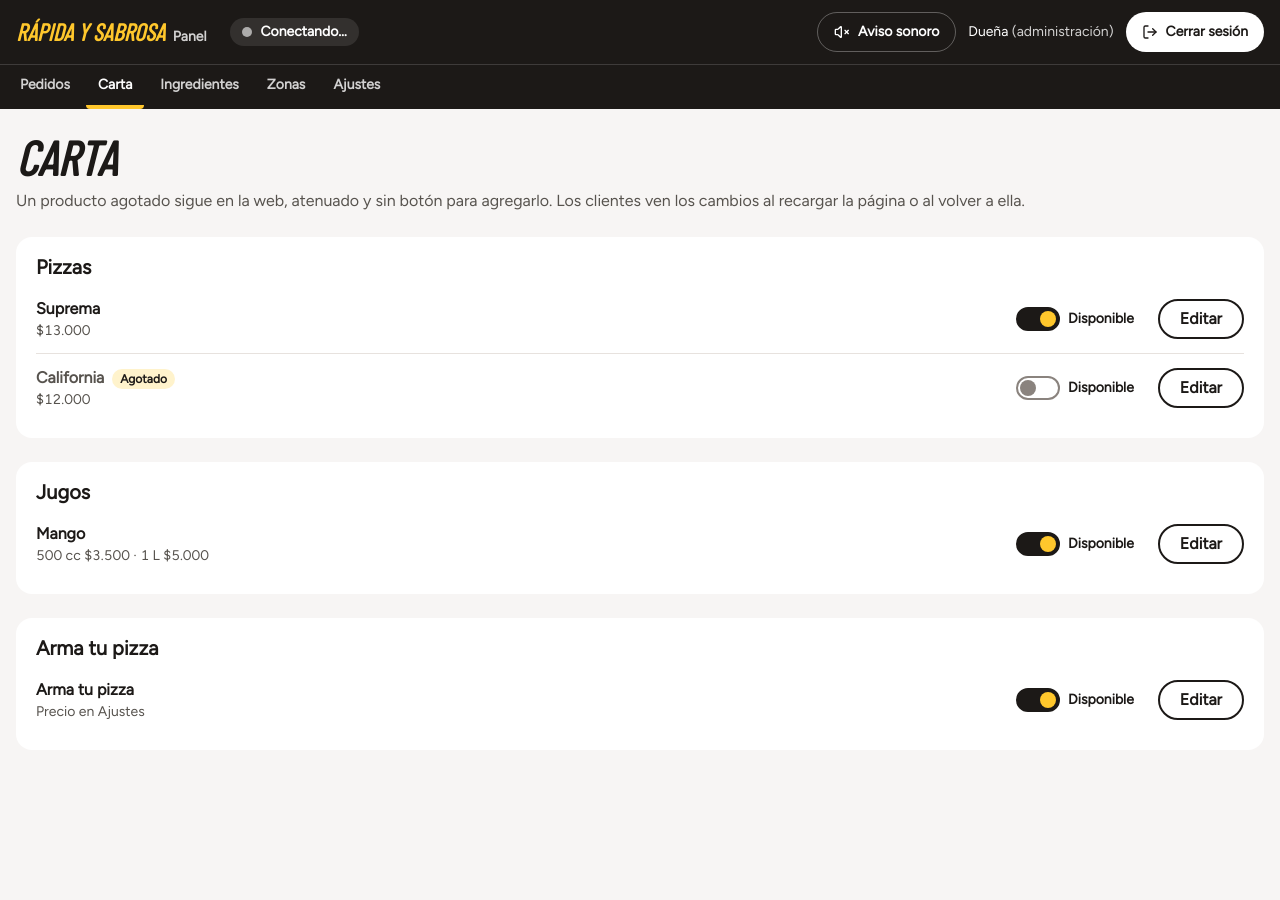
Scenario: /carta › cambia nombre y descripción; una descripción vacía se guarda como "sin descripción"
Check: the heading "Carta" is shown, box [16,128,116,186]
Click the button named "Editar Suprema": click(1201, 319) [1158,299,1244,339]
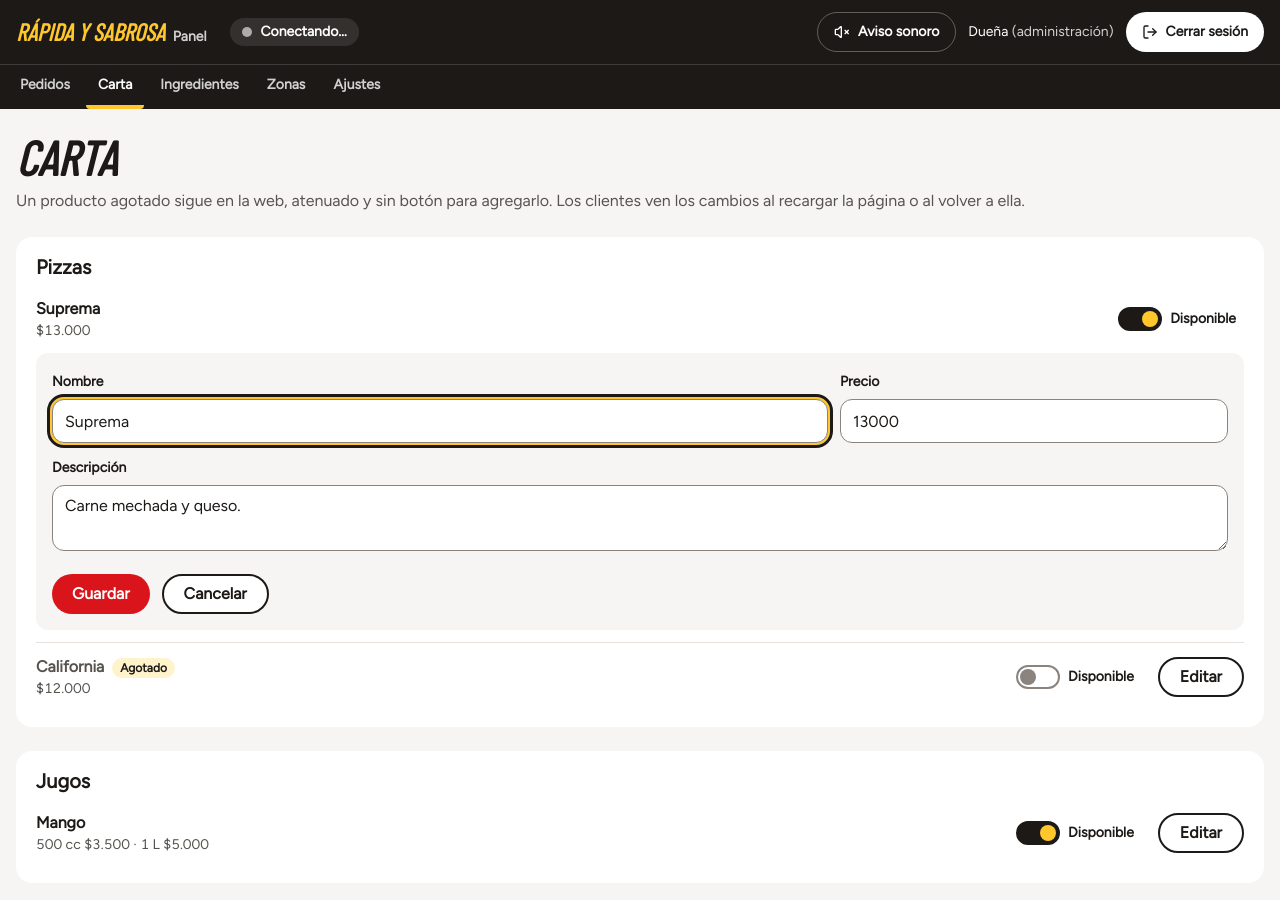
Replace the text in the field labelled "Nombre" with "Suprema XL": (440, 421) [52,399,828,443]
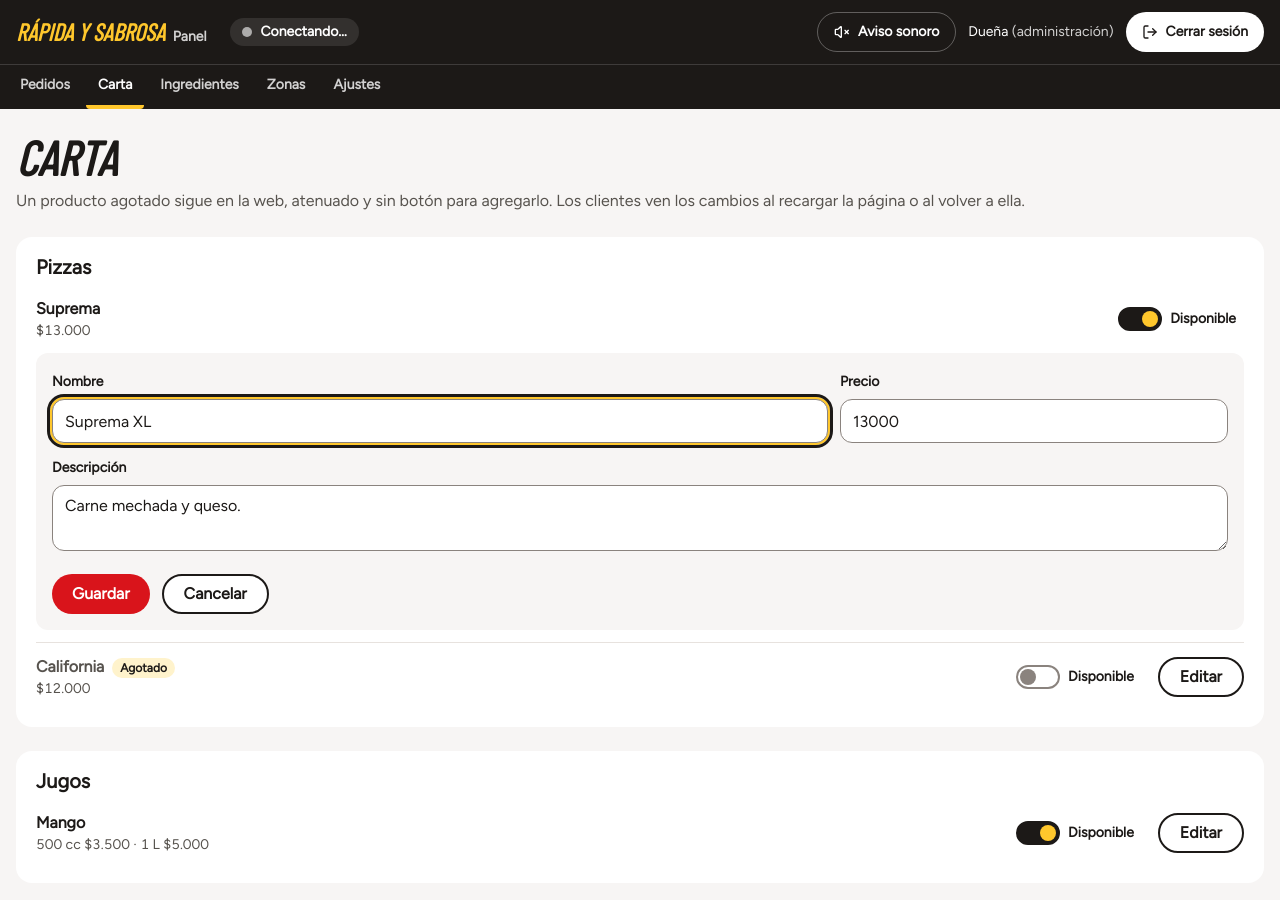
Clear the text box labelled "Descripción": (640, 518) [52,485,1228,551]
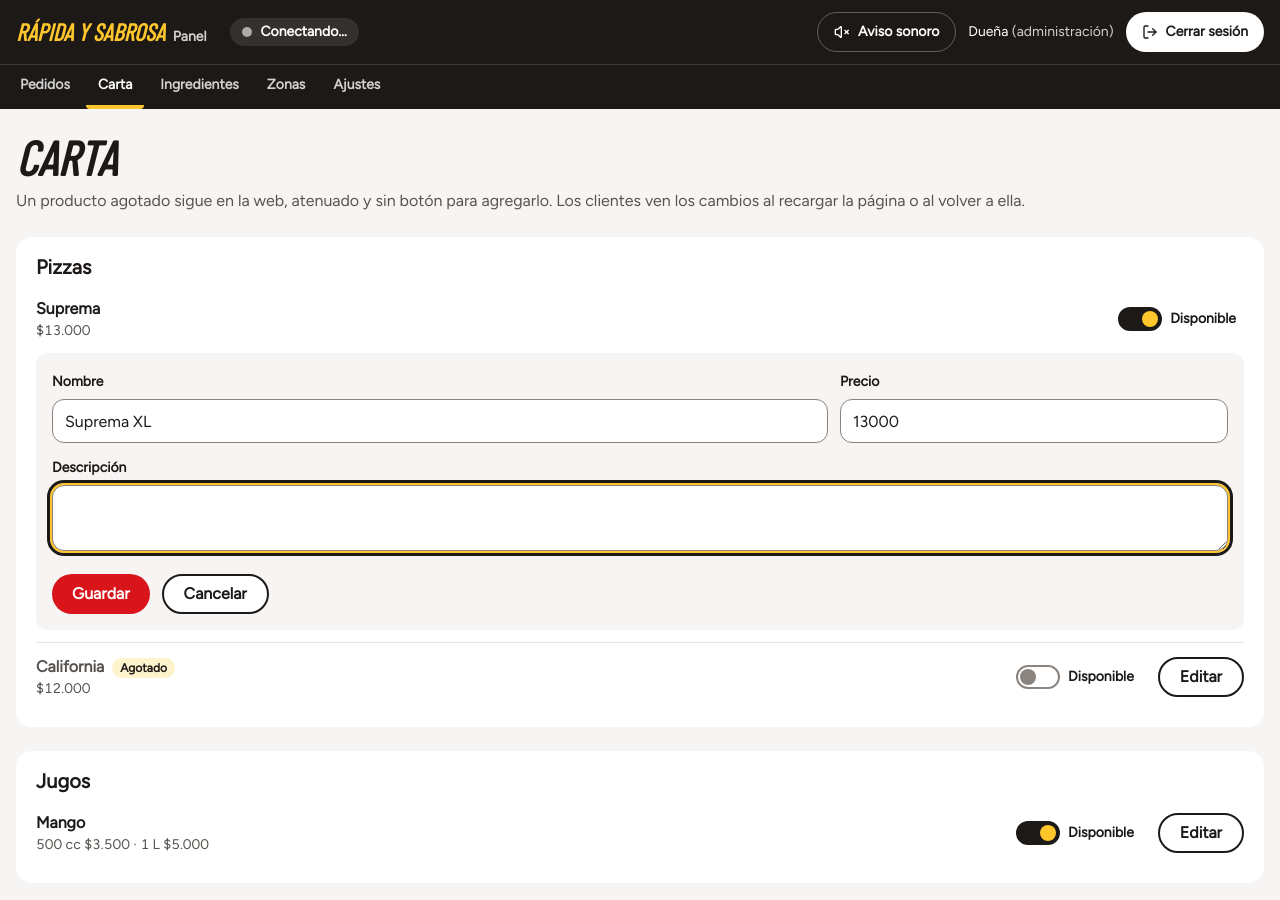
Click the button "Guardar": click(101, 594) [52,574,150,614]
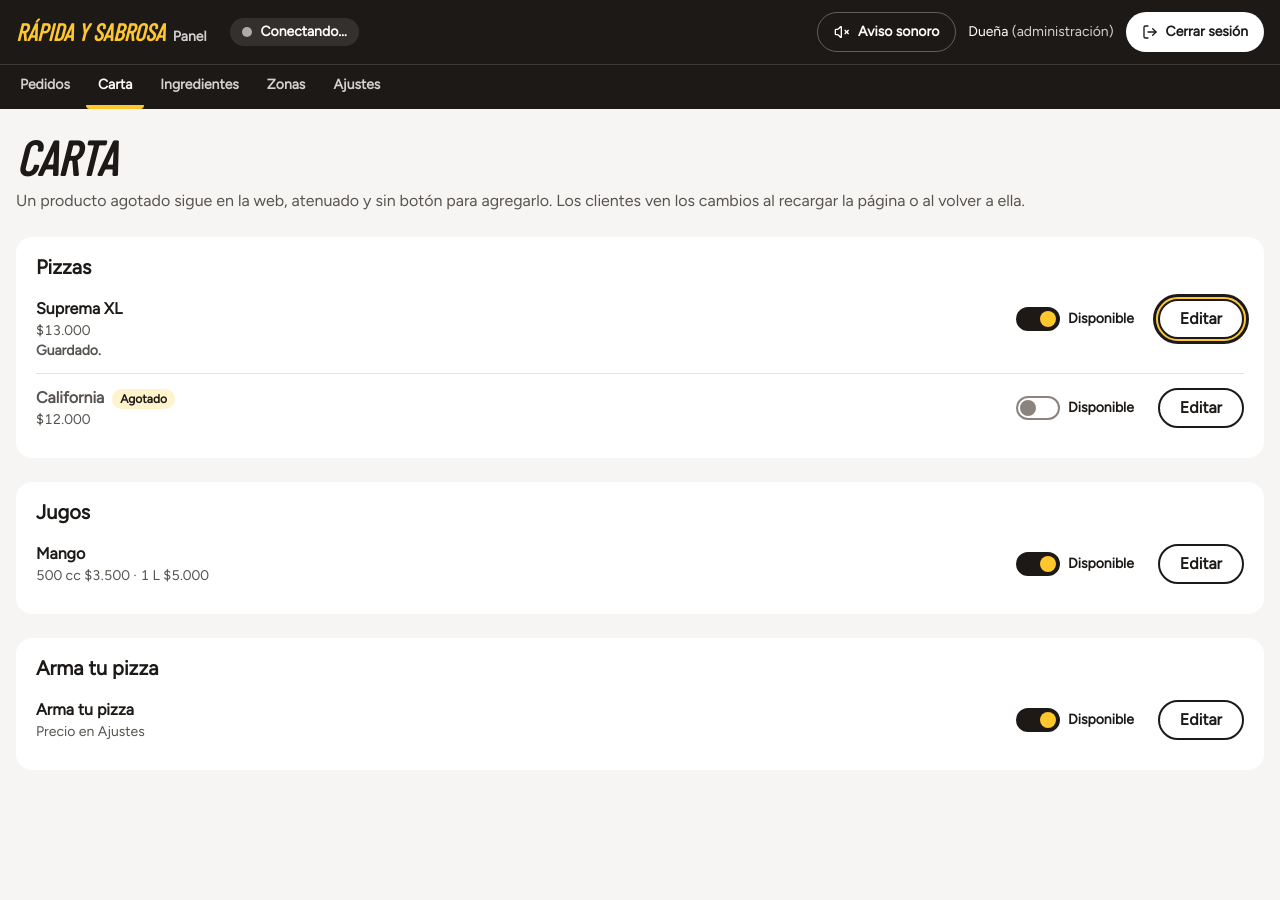
Check: the switch named "Suprema XL disponible" is shown, box [1016,299,1142,339]
